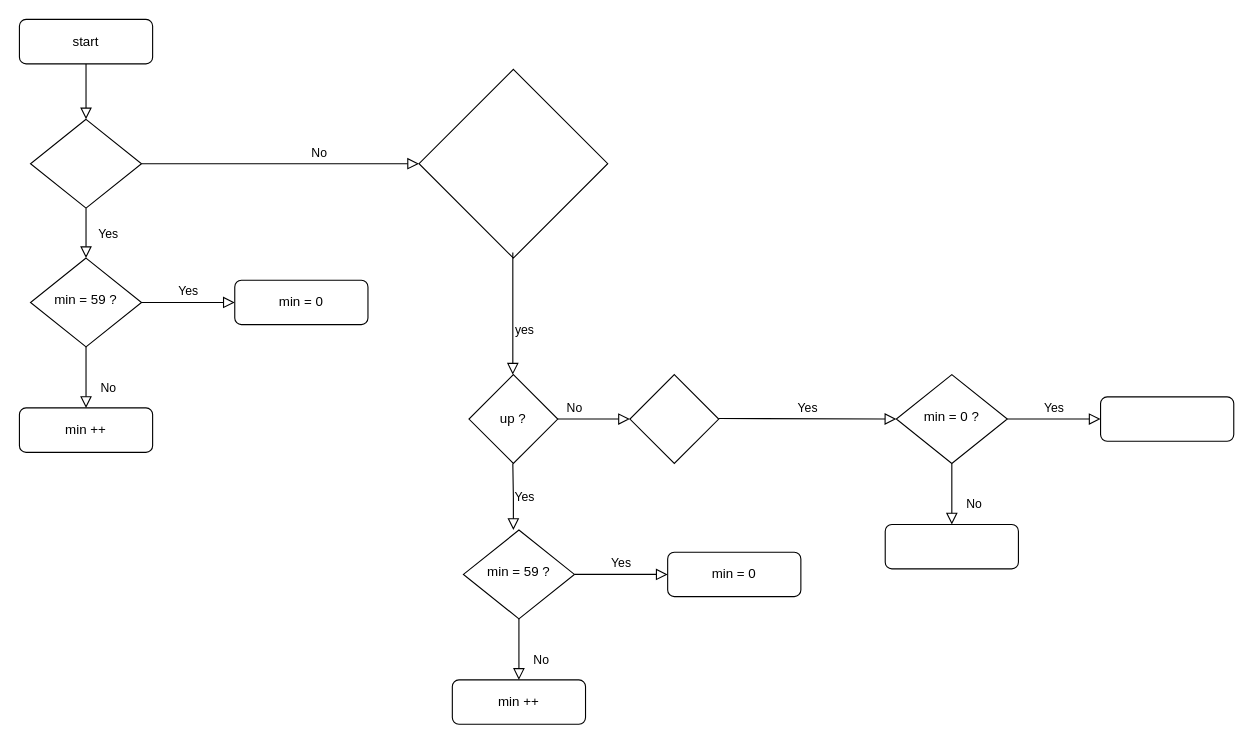
Some shapes in this 1253 by 744 pixel diagram are drawn without their labels. Each missing label, with the centre of its shape:
"down ?" goes at point (674, 418).
"en_5hz && mode = 10 ? (mode chỉnh giây và dùng xung 5 gấp 5 lần)" goes at point (513, 163).
"min --" goes at point (951, 546).
"min = 59" goes at point (1166, 418).
"sec_en && sec = 59" goes at point (85, 163).
